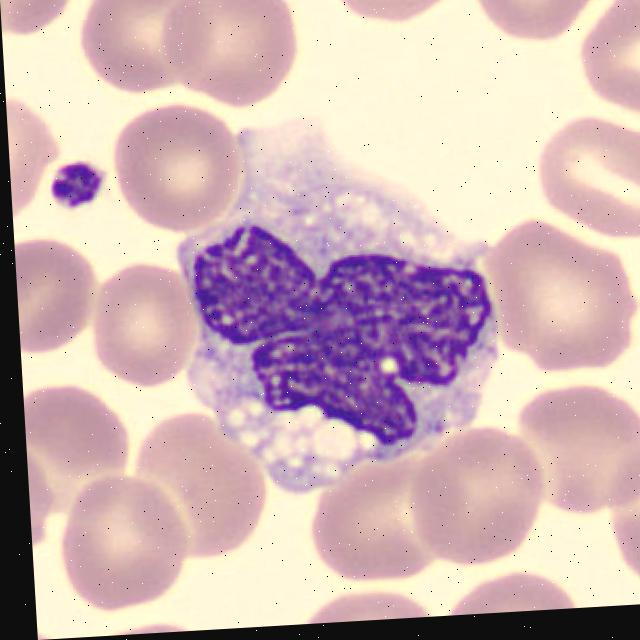monocyte: (163, 100, 519, 516)
platelets: (37, 155, 107, 231)
rbc: (474, 212, 640, 384), (120, 391, 276, 569), (301, 443, 456, 585), (410, 417, 554, 568), (503, 380, 640, 530), (114, 99, 246, 240), (82, 247, 198, 404), (61, 472, 188, 612), (23, 375, 136, 520), (165, 0, 307, 112), (531, 106, 640, 249), (14, 226, 111, 368), (74, 0, 218, 87), (279, 565, 441, 626), (322, 0, 467, 57), (572, 0, 640, 119), (449, 563, 584, 615), (6, 91, 58, 223), (476, 0, 601, 51), (601, 441, 640, 594), (0, 0, 88, 49)
